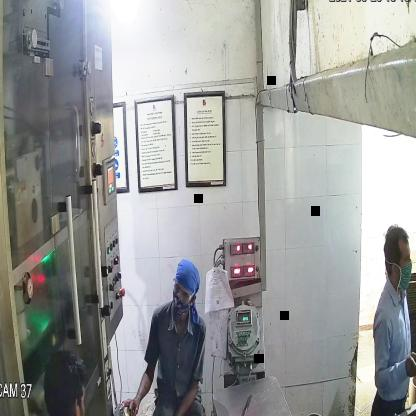goggles: (170, 277, 195, 306)
no_goggles: (386, 250, 414, 272)
